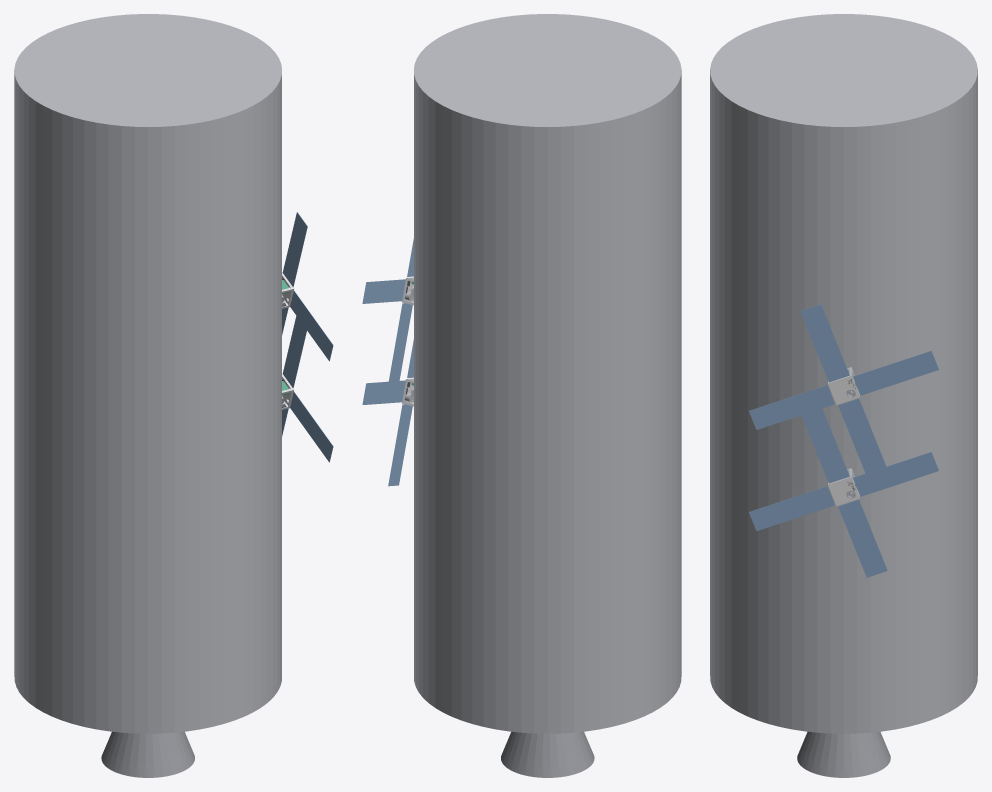
File: stage_with_tugs.glb
3 views of the same model, side by side, from view 1: azimuth 30°, elevation 25°; view 2: azimuth 150°, elevation 25°; view 3: azimuth 270°, elevation 25° (orthographic).
Parts seen in each view (by area): view 1: stage, nozzle, t0_wing_3, t0_wing_1, t1_wing_3, t1_wing_1; view 2: stage, nozzle, t1_wing_0, t0_wing_0, t0_wing_2, t1_wing_2; view 3: stage, nozzle, t1_wing_3, t0_wing_2, t0_wing_3, t0_wing_0, t0_wing_1, t1_wing_0, t1_wing_1, t1_wing_2, t0_top_plate, t1_top_plate.
Part boxes in pixels (x1,y1,x2,y2): stage: [14, 14, 281, 733]; nozzle: [101, 731, 194, 777]; t0_wing_3: [290, 290, 333, 361]; t0_wing_1: [282, 212, 307, 287]; t1_wing_3: [290, 392, 333, 462]; t1_wing_1: [282, 316, 306, 388]; stage: [414, 14, 681, 733]; nozzle: [501, 731, 594, 777]; t1_wing_0: [388, 404, 412, 486]; t0_wing_0: [388, 303, 412, 384]; t0_wing_2: [362, 279, 405, 303]; t1_wing_2: [362, 380, 405, 404]; stage: [710, 14, 977, 733]; nozzle: [797, 731, 890, 777]; t1_wing_3: [749, 486, 834, 531]; t0_wing_2: [853, 351, 938, 395]; t0_wing_3: [749, 385, 834, 429]; t0_wing_0: [838, 398, 887, 476]; t0_wing_1: [800, 304, 849, 382]; t1_wing_0: [838, 499, 887, 577]; t1_wing_1: [801, 405, 849, 483]; t1_wing_2: [853, 452, 938, 496]; t0_top_plate: [828, 376, 859, 404]; t1_top_plate: [828, 477, 859, 505].
Bounding box in the file's own units: 2.63 × 6.8 × 2.4.
